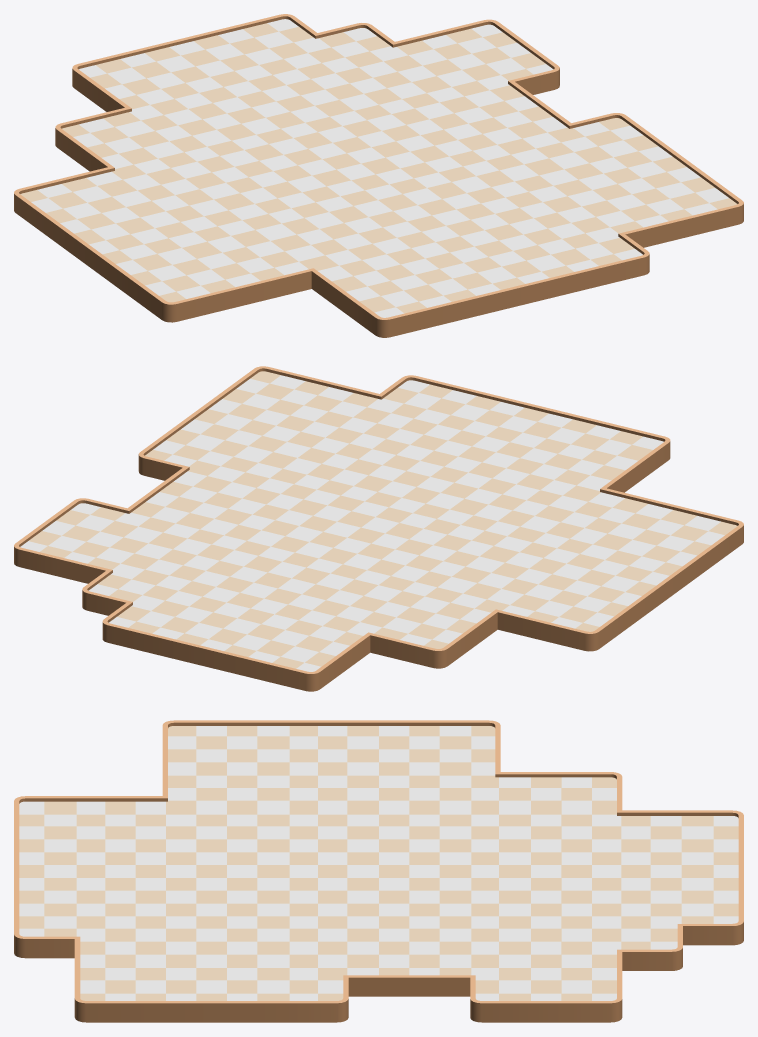
File: Location_1.fbx
3 views of the same model, one above another, from view 1: azimuth 30°, elevation 25°; view 2: azimuth 150°, elevation 25°; view 3: azimuth 270°, elevation 25° (orthographic). The views are drawn at different scales.
Visible parts, largest first — view 1: floor, Location 1; view 2: floor, Location 1; view 3: floor, Location 1.
Boxes of the visible parts, <box> form: floor: <box>20,19,737,317</box>; Location 1: <box>14,14,743,337</box>; floor: <box>20,371,737,671</box>; Location 1: <box>14,366,743,691</box>; floor: <box>19,726,738,1000</box>; Location 1: <box>14,720,743,1022</box>.
Size of the model in its own units: 2375 by 75.25 by 2591.
